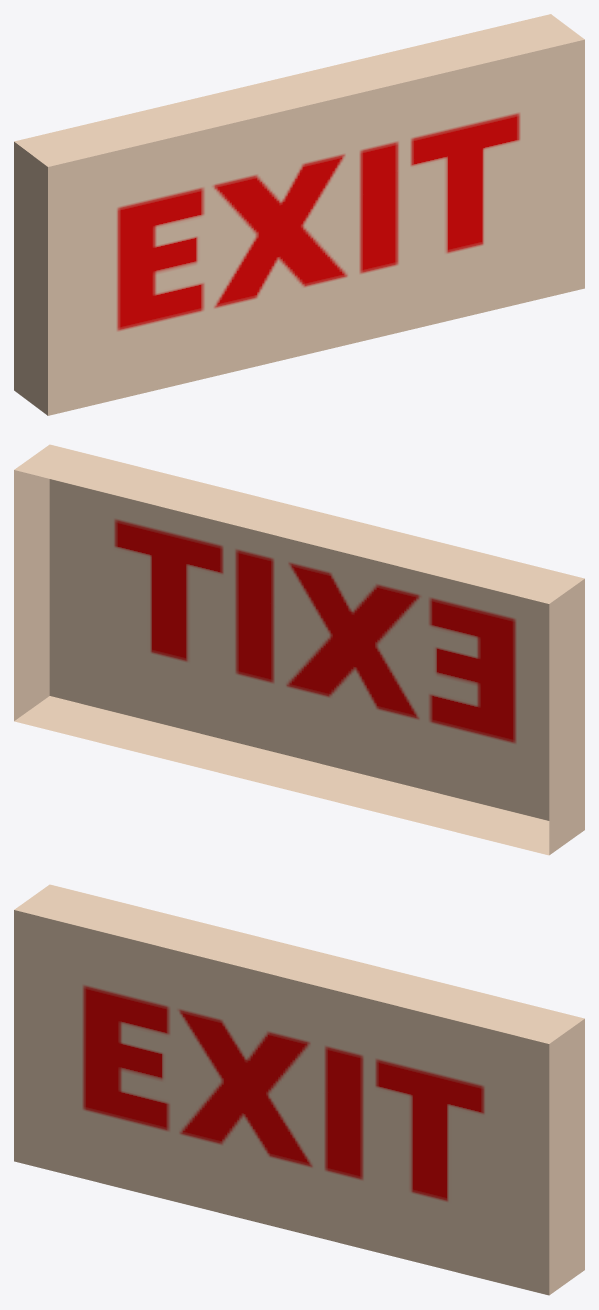
File: Exit.fbx
3 renders of one model, top to bottom at view 1: azimuth 30°, elevation 25°; view 2: azimuth 150°, elevation 25°; view 3: azimuth 330°, elevation 25°, orthographic.
Visible parts, largest first — view 1: Exit; view 2: Exit; view 3: Exit.
Part boxes in pixels (box(x1,y1,x2,y2)): Exit: box(14, 14, 584, 415); Exit: box(14, 444, 584, 855); Exit: box(14, 884, 584, 1295).
Bounding box in the file's own units: 71.11 × 31.67 × 8.85.
Materials: 1 (1 with a texture image).
